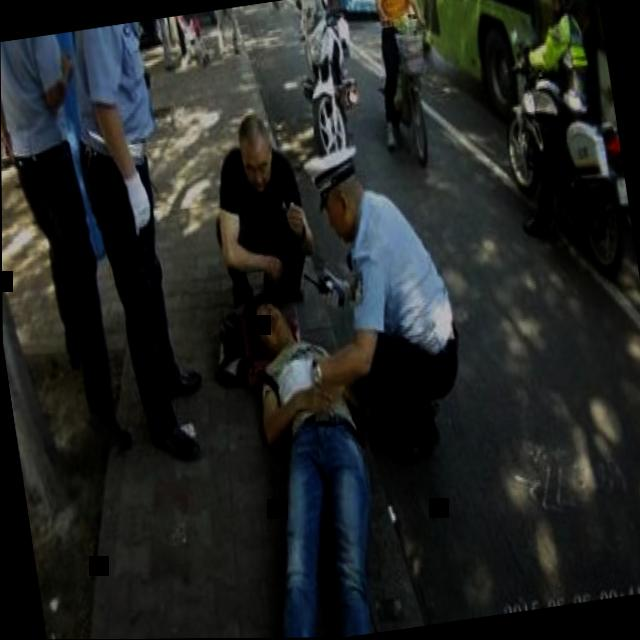Fall-Detected: (166, 258, 404, 639)
